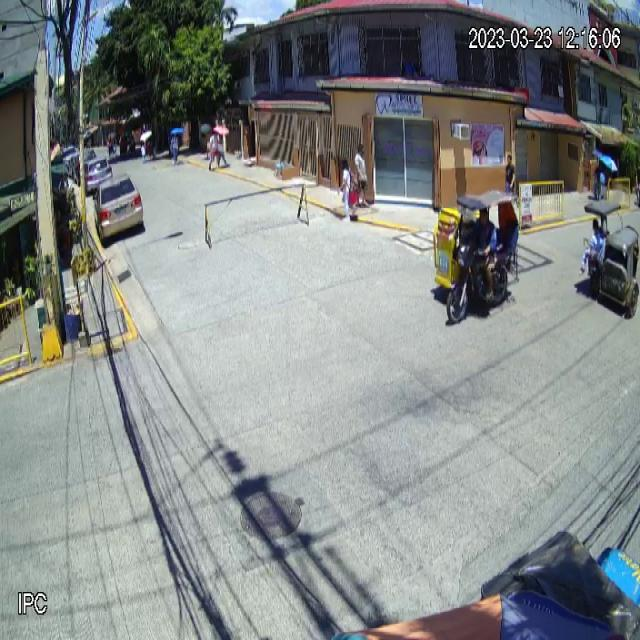Tricycle: (432, 189, 520, 325)
